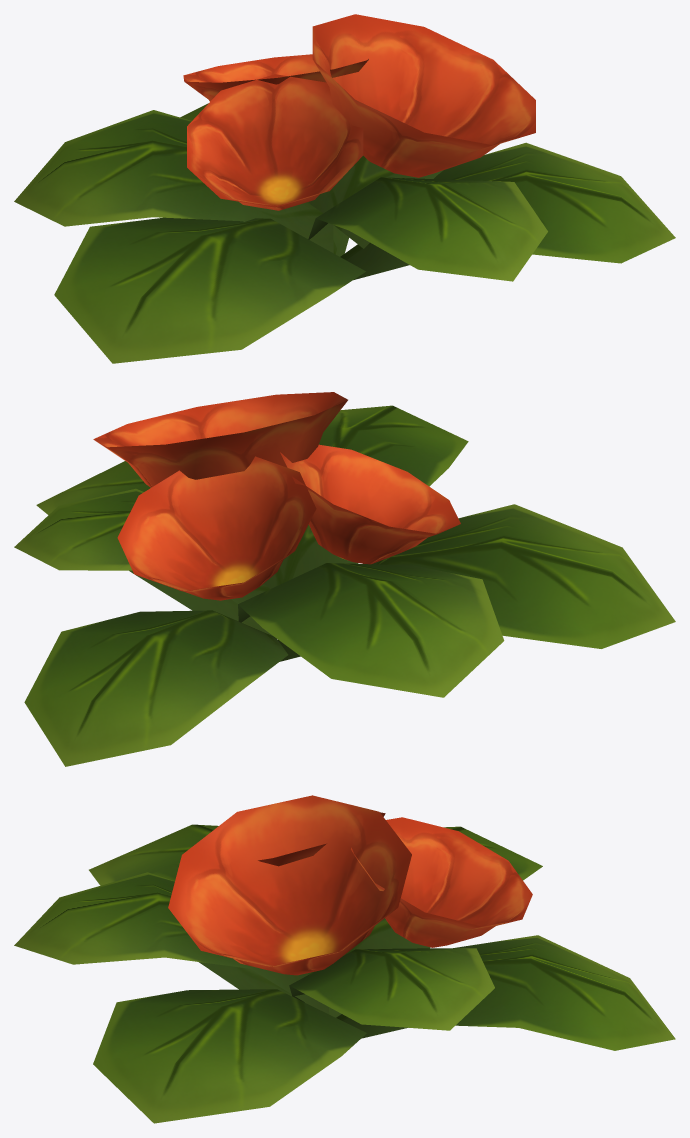
Rendered from Flowers_1.FBX.
The picture shows the model from 3 angles, top to bottom: view 1: azimuth 30°, elevation 25°; view 2: azimuth 150°, elevation 25°; view 3: azimuth 270°, elevation 25°; orthographic projection. The views are drawn at different scales.
Visible parts, largest first — view 1: Flowers_1; view 2: Flowers_1; view 3: Flowers_1.
Part boxes in pixels (x1,y1,x2,y2): Flowers_1: (14, 14, 675, 363); Flowers_1: (14, 392, 675, 766); Flowers_1: (14, 795, 675, 1123).
Size of what is drawn, in the model's own units: 147 by 150 by 59.28.
